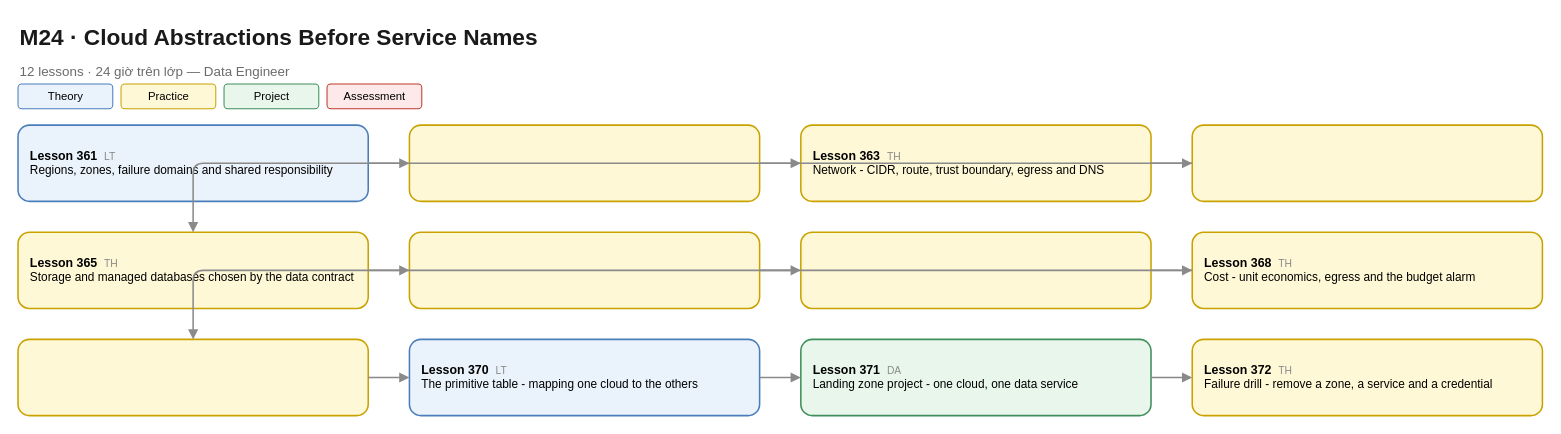
Some shapes in this 1561 by 434 pixel diagram are drawn without their labels. Each missing label, with the centre of its shape:
Lesson 362 TH Identity before services - principal, role, least privilege: the point at 584,163
Lesson 364 TH Compute - state, startup, scale unit and replacement: the point at 1367,163
Lesson 366 TH Messaging services mapped by delivery semantics: the point at 584,270
Lesson 367 TH Reliability - failure domains, RPO and RTO with a tested restore: the point at 975,270
Lesson 369 TH Secrets, keys and the audit trail: the point at 193,377
